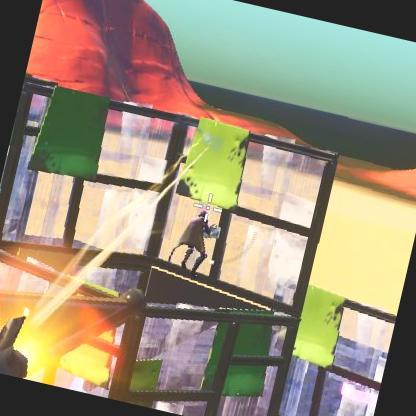person: (168, 205, 218, 277)
